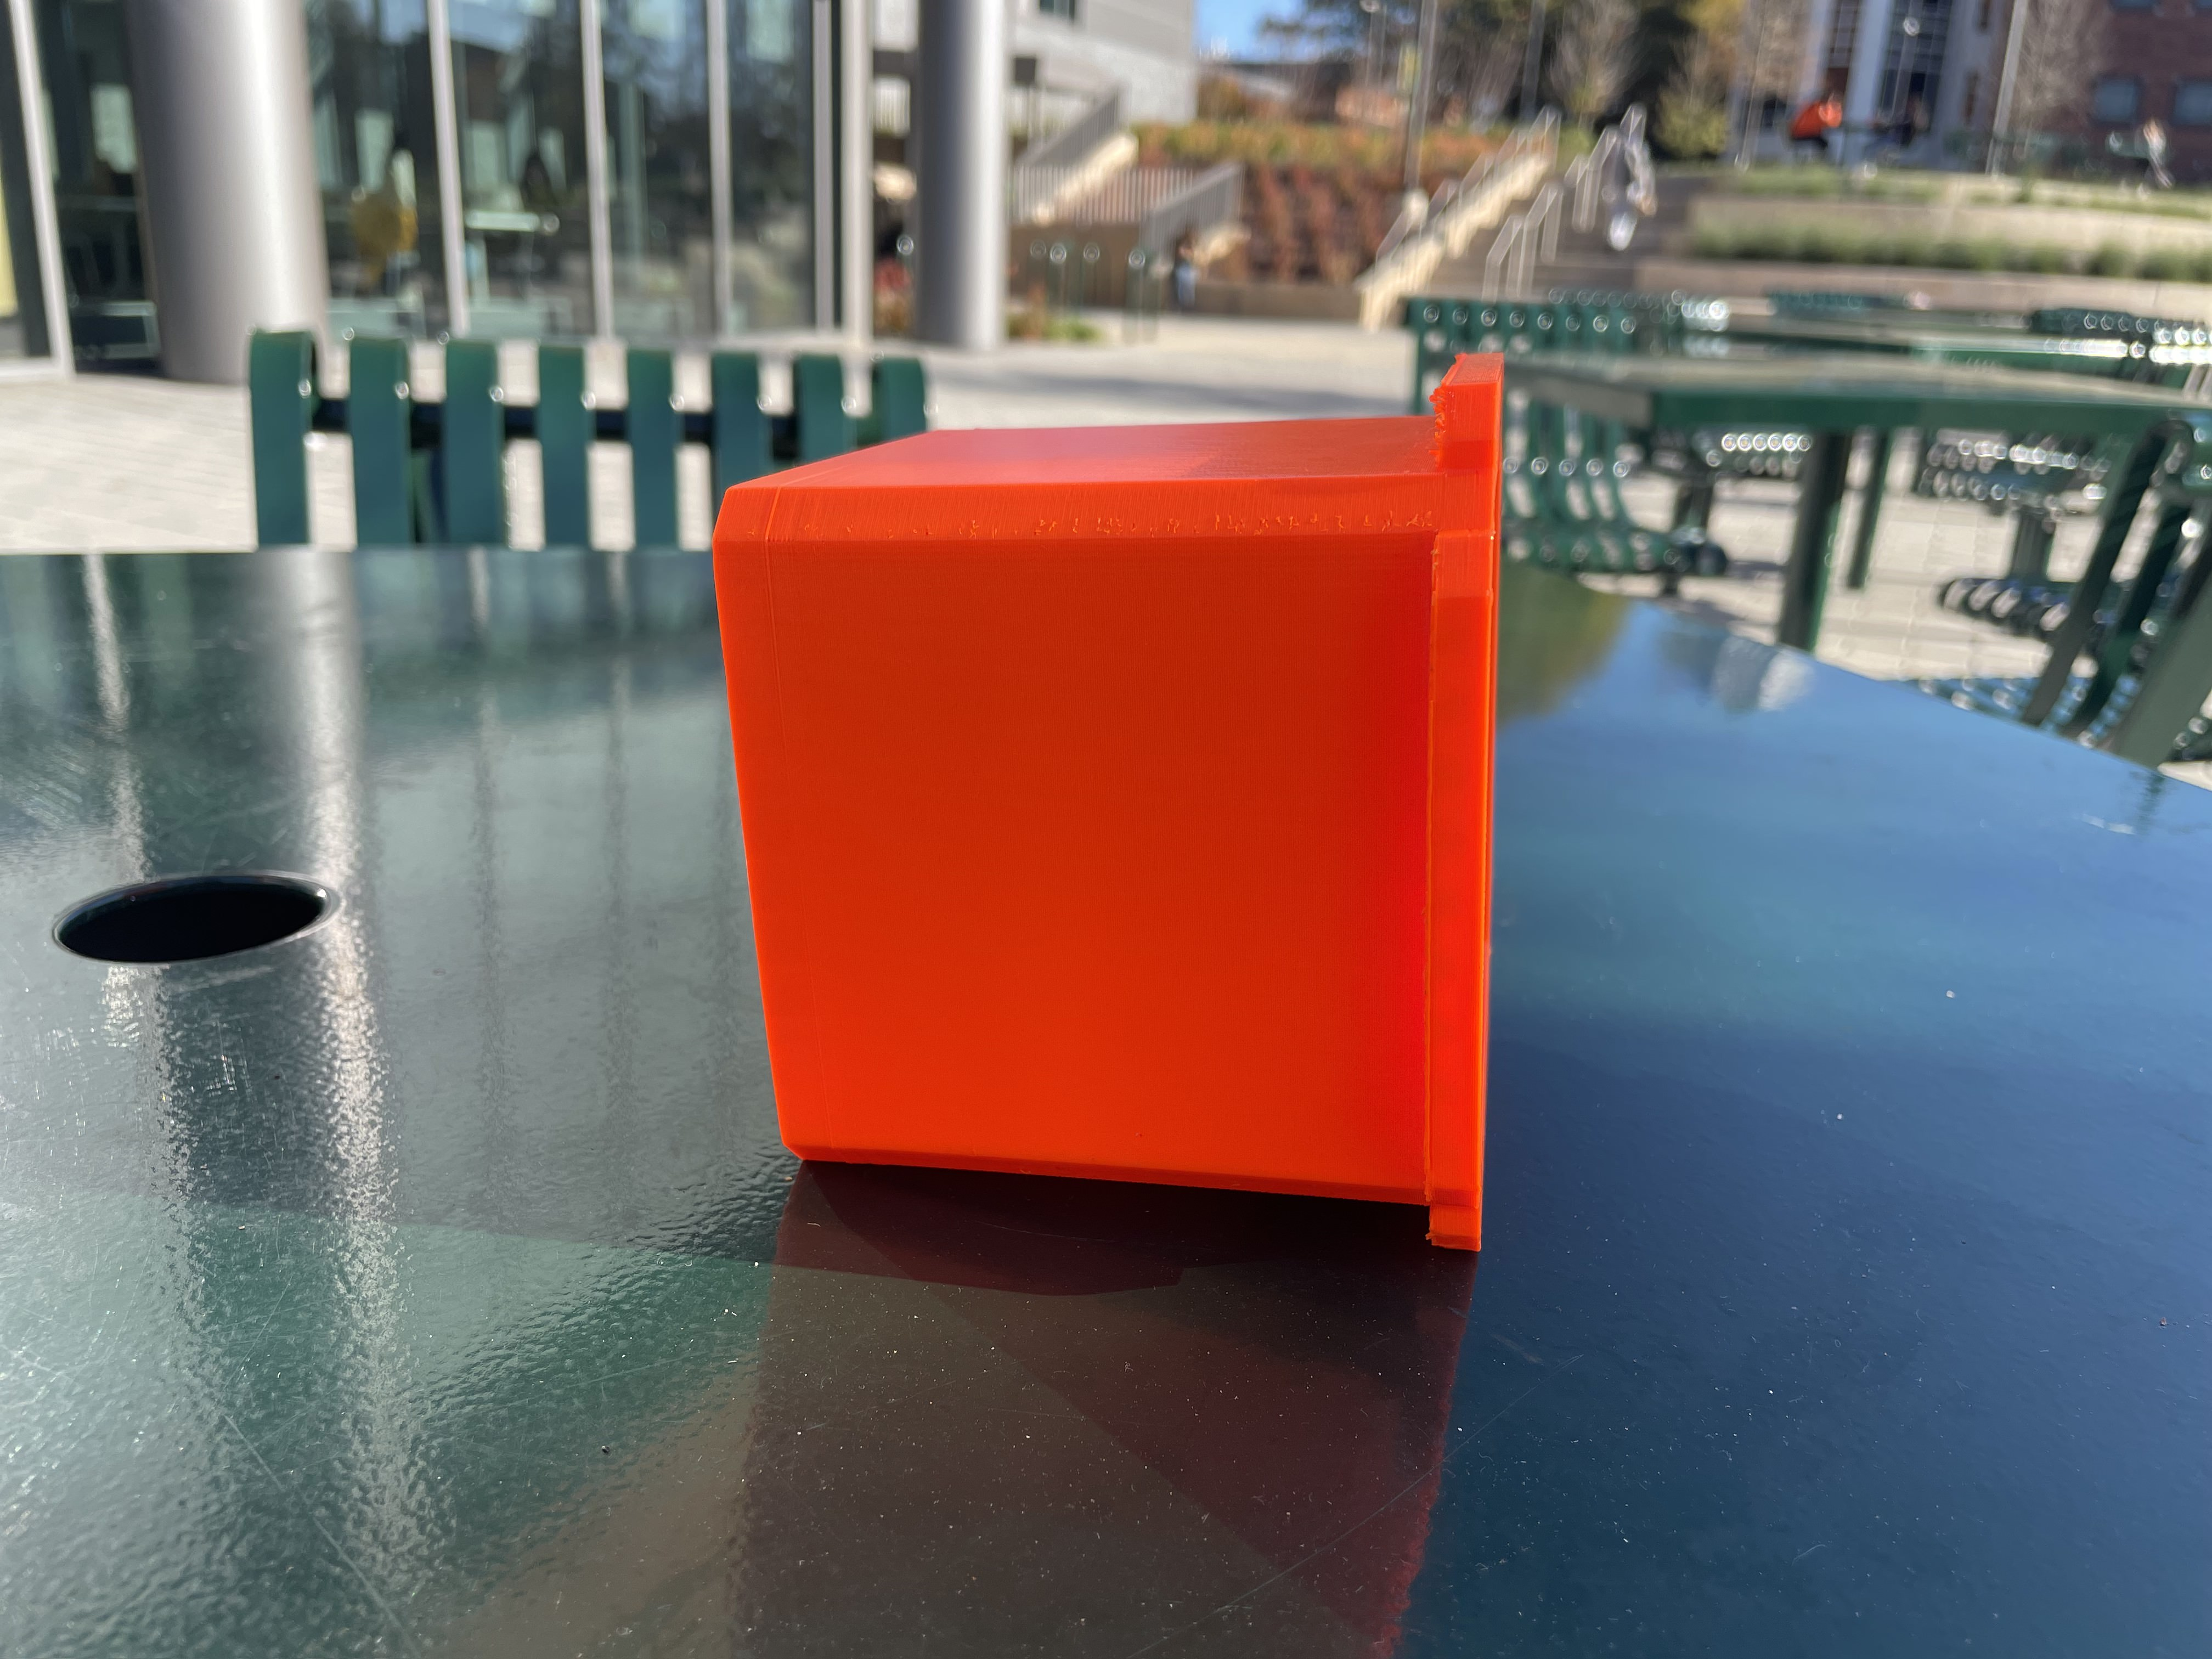payload1: (690, 335, 1559, 1286)
